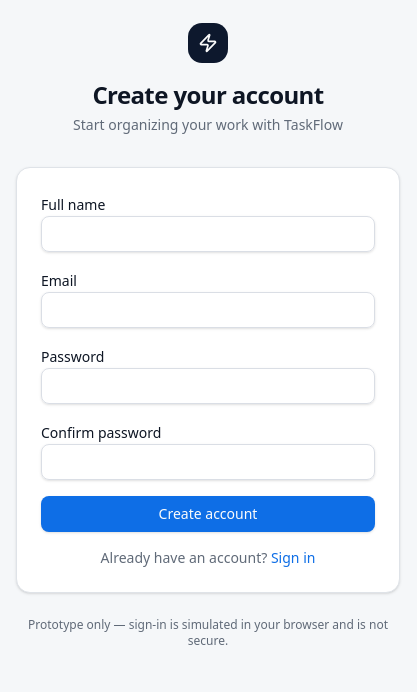
Test: TaskFlow migrated pages with mocked API responses › validates registration and sends registration/login requests
Later steps or results of the test are not shown.
Click the button "Create account" at (208, 514), box [41,496,375,532]
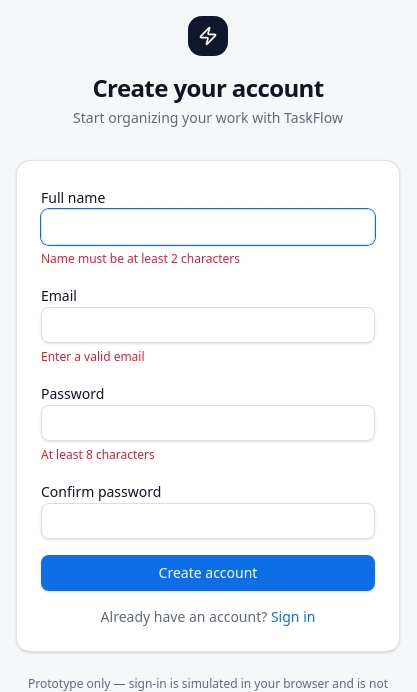
Check: the text "Name must be at least 2 characters" is shown, box [41,250,240,267]
Check: the text "Enter a valid email" is shown, box [41,348,145,365]
Check: the text "At least 8 characters" is shown, box [41,446,155,463]
